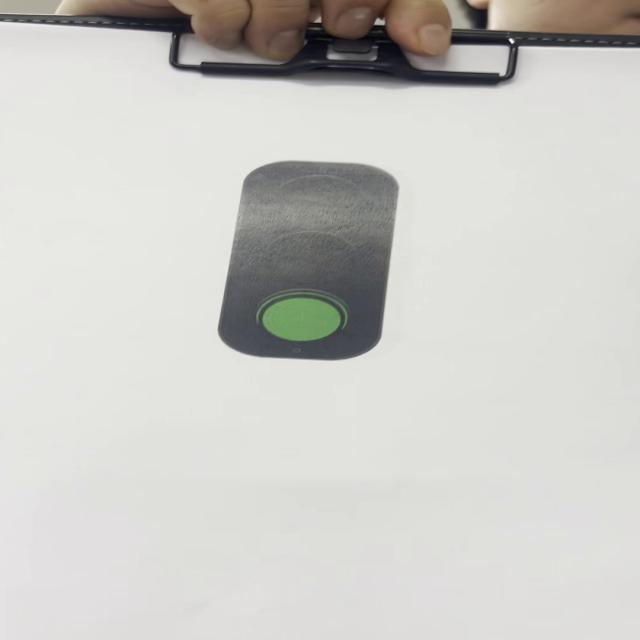green: (213, 160, 401, 364)
